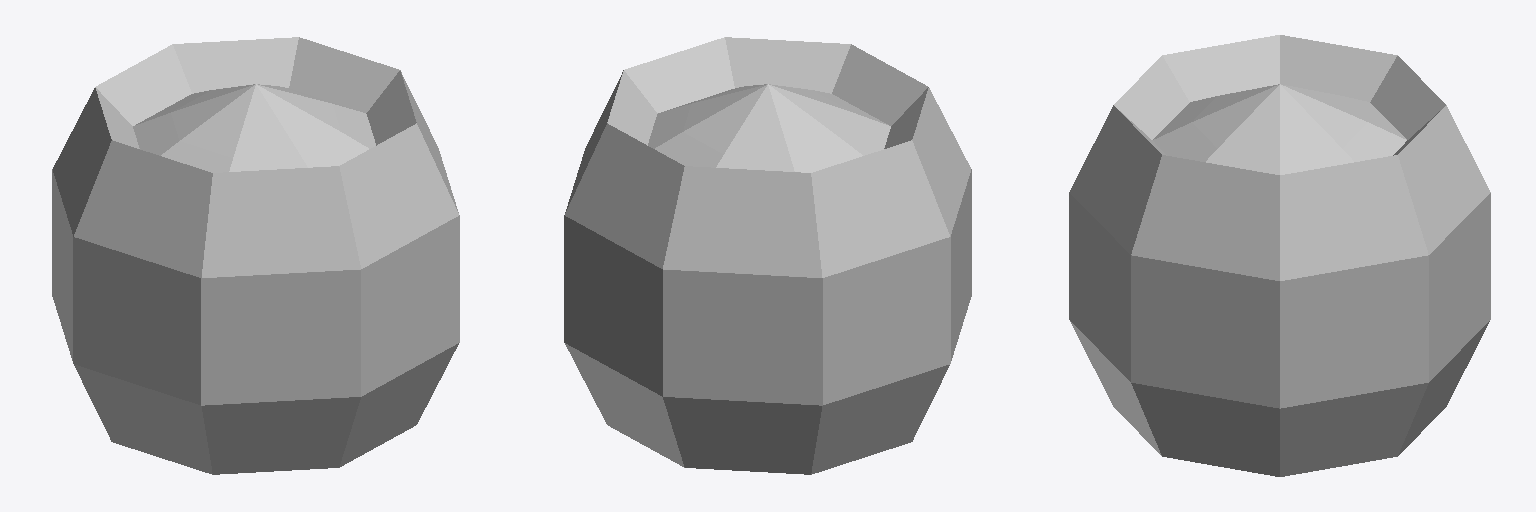
Rendered from terra_focus_end.obj.
3 renders of one model, left to right at view 1: azimuth 30°, elevation 25°; view 2: azimuth 150°, elevation 25°; view 3: azimuth 270°, elevation 25°, orthographic.
Parts seen in each view (by area): view 1: Cylinder_Cylinder.001; view 2: Cylinder_Cylinder.001; view 3: Cylinder_Cylinder.001.
Boxes of the visible parts, <box> form: Cylinder_Cylinder.001: <box>52,37,459,474</box>; Cylinder_Cylinder.001: <box>564,37,971,474</box>; Cylinder_Cylinder.001: <box>1069,35,1490,476</box>.
Bounding box in the file's own units: 1 × 0.9 × 1.